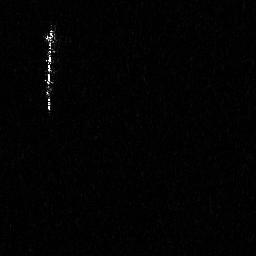ship: (44, 25, 56, 118)
